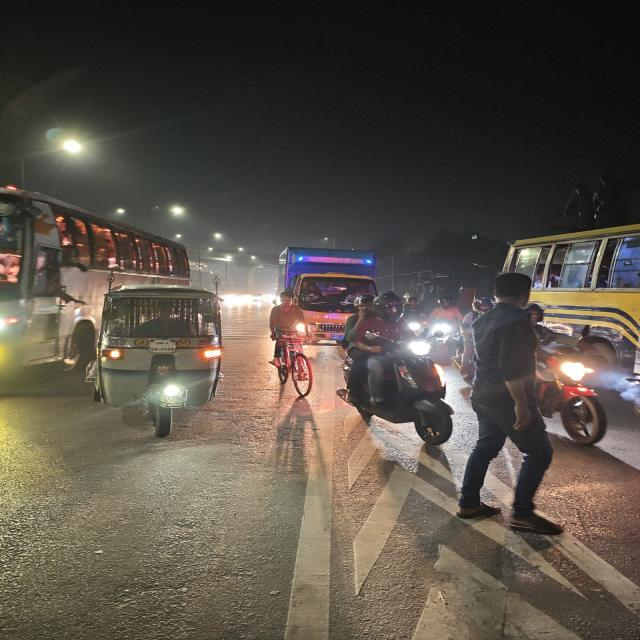bicycle: (267, 330, 319, 400)
bus: (0, 183, 195, 385)
cng: (88, 286, 229, 442)
motorcycle: (535, 294, 640, 461), (342, 310, 453, 450)
pedestrian: (456, 284, 559, 524)
truck: (275, 244, 380, 346)
